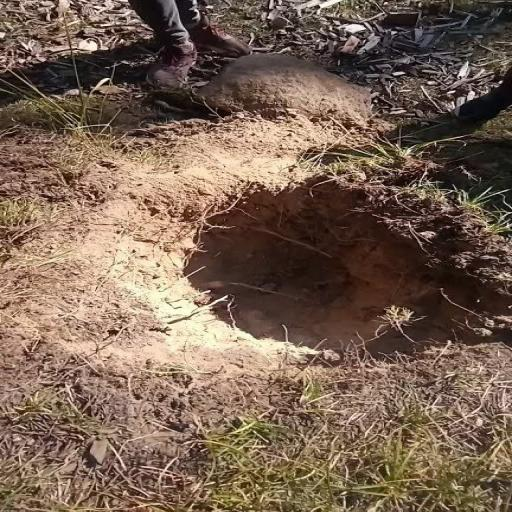entrance: (187, 184, 456, 351)
